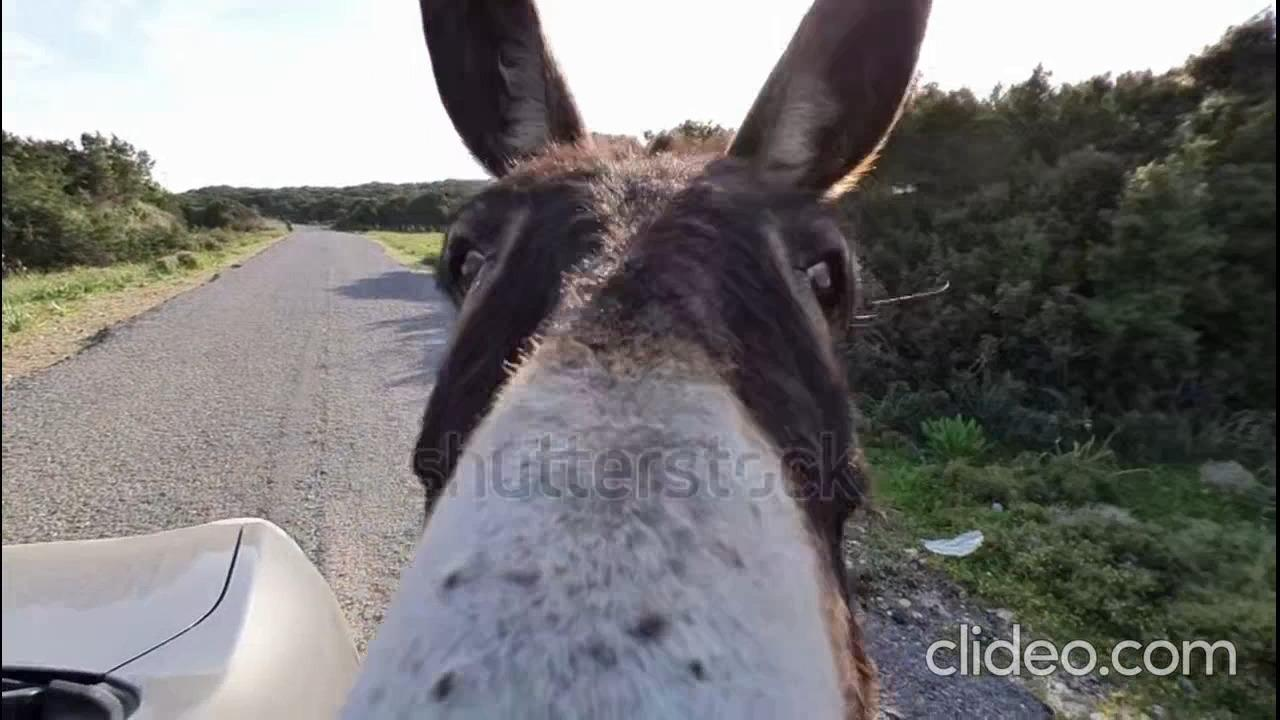Donkey: (360, 8, 918, 720)
